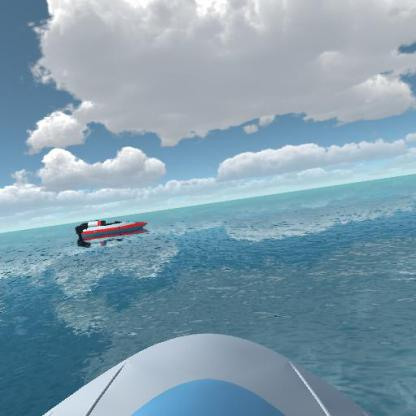usv3: (72, 214, 148, 245)
